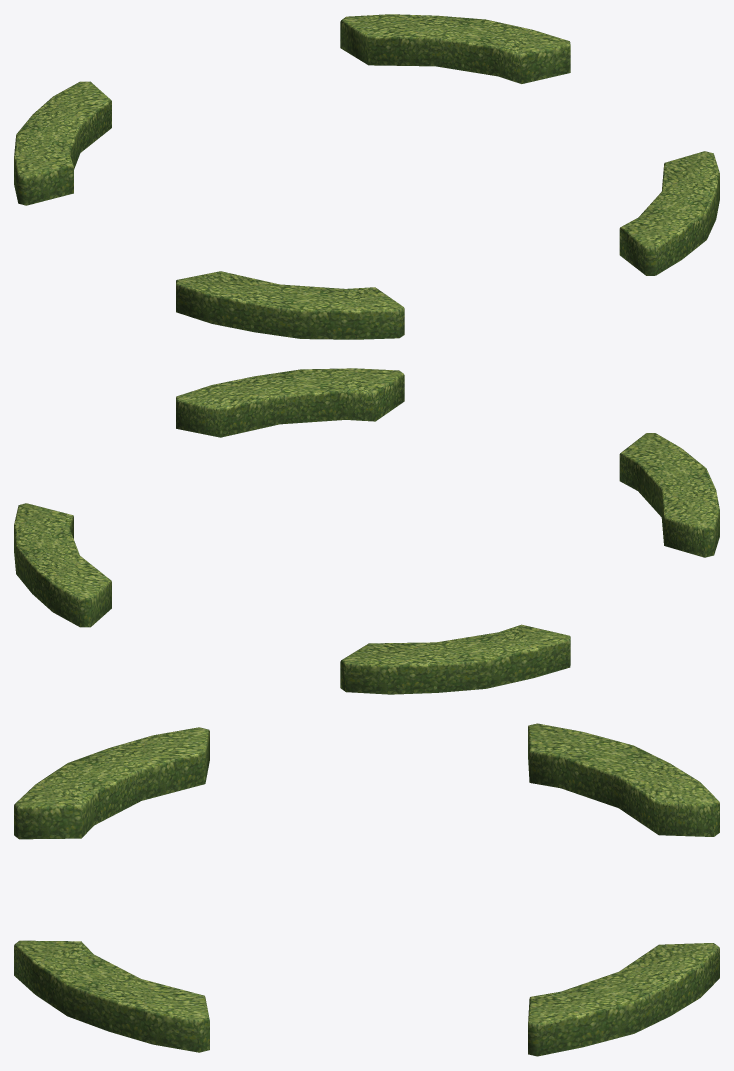
File: mesh_1002_plant.FBX
3 views of the same model, one above another, from view 1: azimuth 30°, elevation 25°; view 2: azimuth 150°, elevation 25°; view 3: azimuth 270°, elevation 25° (orthographic). The views are drawn at different scales.
Visible parts, largest first — view 1: mesh_1002_plant; view 2: mesh_1002_plant; view 3: mesh_1002_plant.
Boxes of the visible parts, <box> form: mesh_1002_plant: <box>14,14,719,339</box>; mesh_1002_plant: <box>14,368,719,694</box>; mesh_1002_plant: <box>14,723,719,1056</box>.
Size of the model in its own units: 2208 by 109 by 2180.
1 material, 1 textured.
